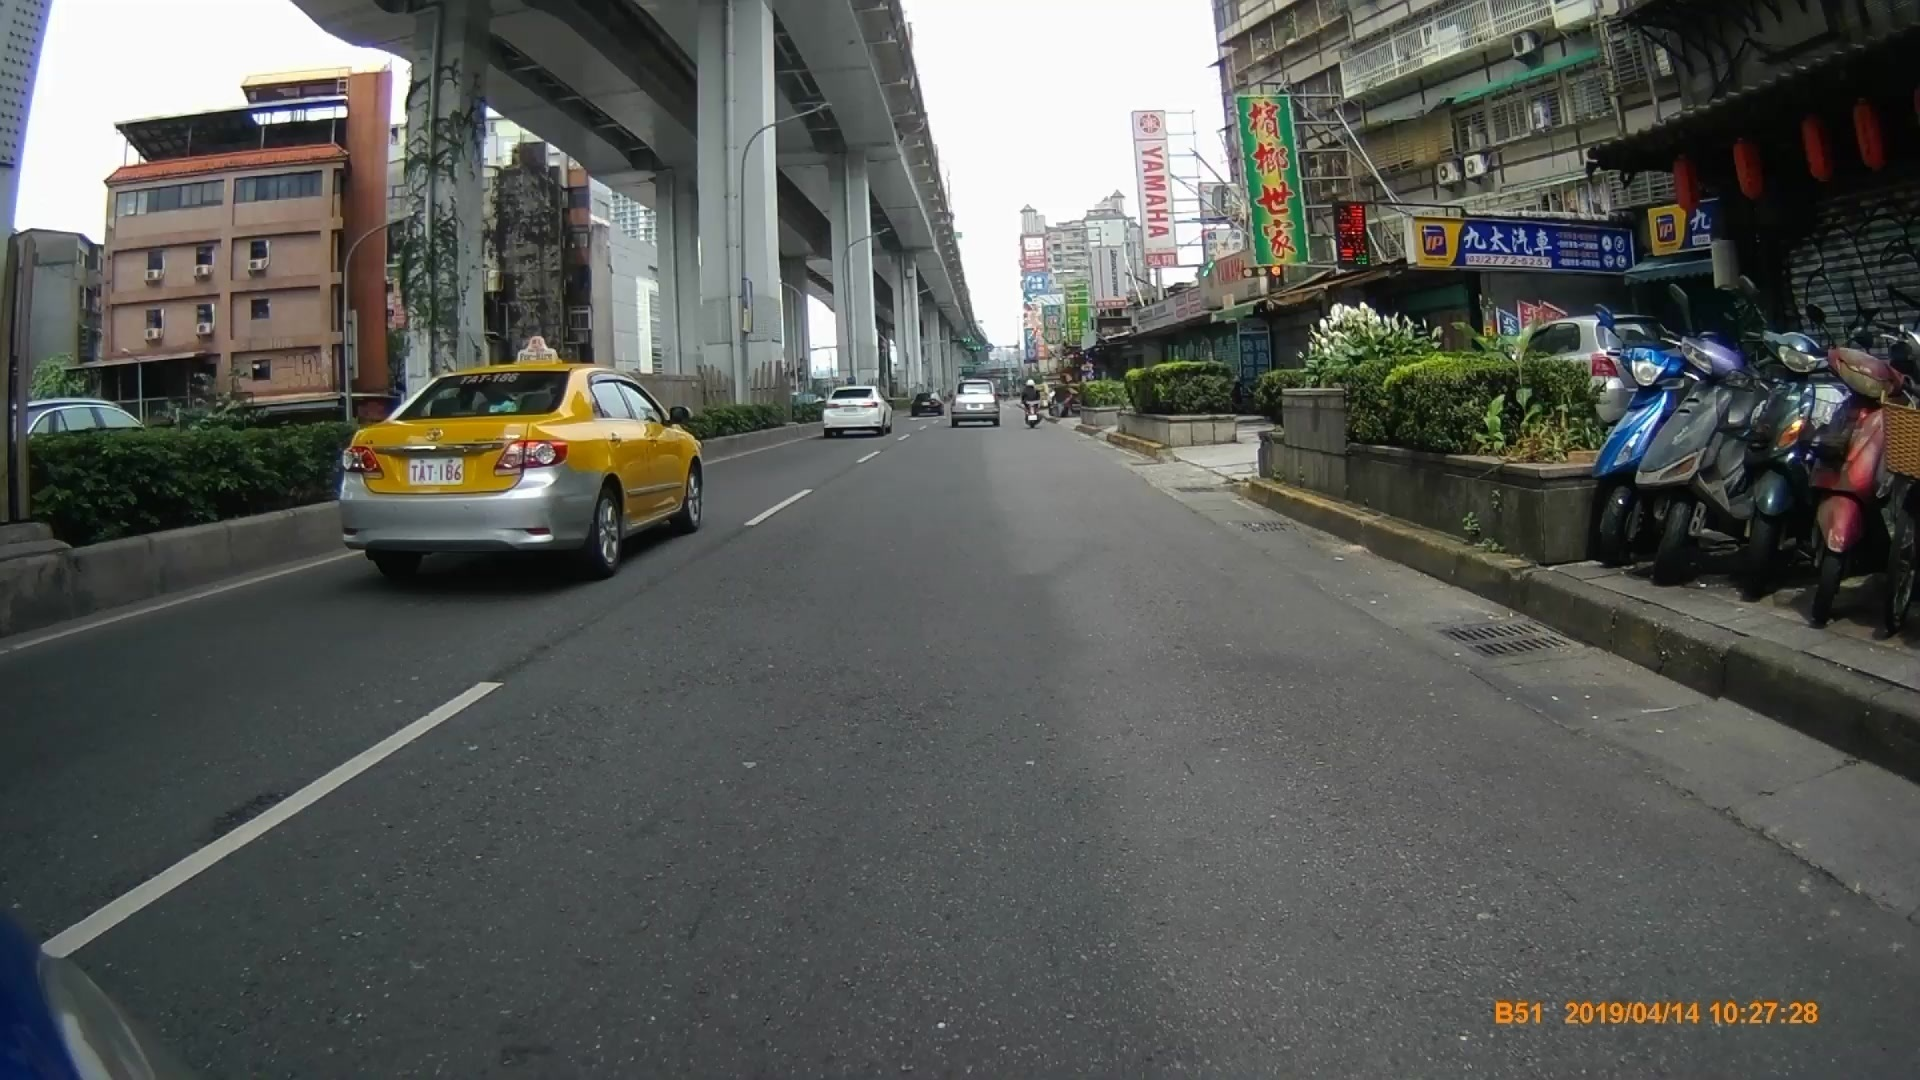License_plate: (407, 456, 467, 488)
